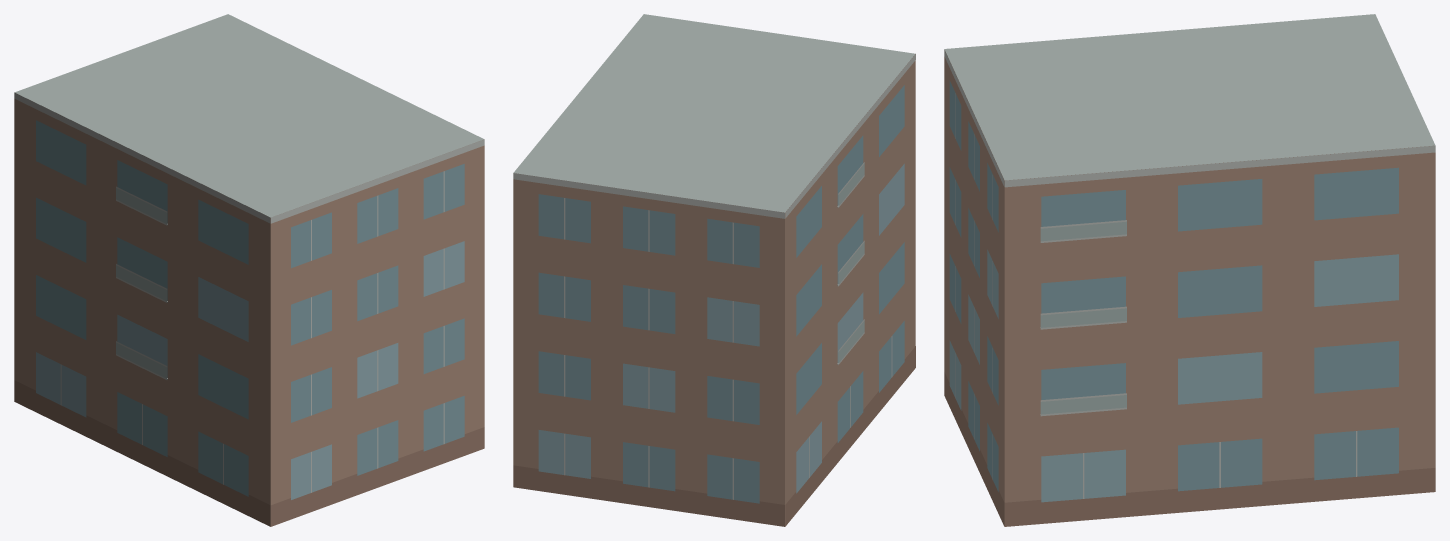
The model's file is survey-upis-32699320.glb.
3 renders of one model, left to right at view 1: azimuth 30°, elevation 25°; view 2: azimuth 150°, elevation 25°; view 3: azimuth 270°, elevation 25°, orthographic. The views are drawn at different scales.
Visible parts, largest first — view 1: survey-upis-32699320.tmp; view 2: survey-upis-32699320.tmp; view 3: survey-upis-32699320.tmp.
Part boxes in pixels (x1,y1,x2,y2): survey-upis-32699320.tmp: [14, 14, 484, 526]; survey-upis-32699320.tmp: [513, 14, 915, 526]; survey-upis-32699320.tmp: [944, 14, 1435, 526].
Bounding box in the file's own units: 12.59 × 12.2 × 15.69.
